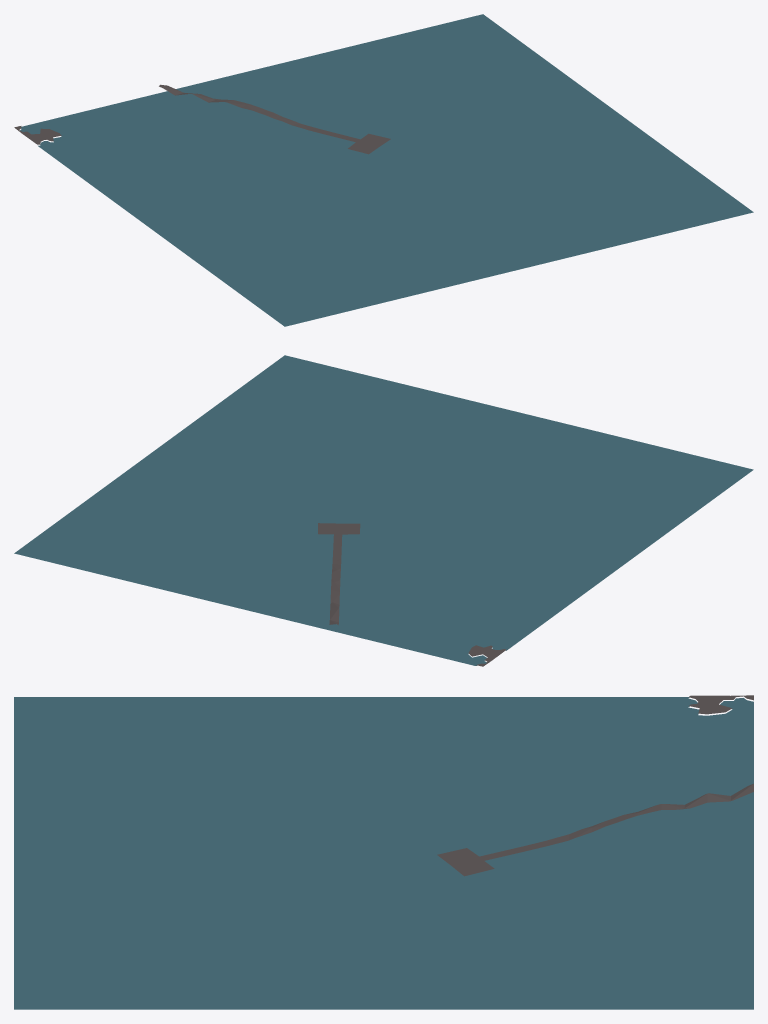
3 views of the same model, one above another, from view 1: azimuth 30°, elevation 25°; view 2: azimuth 150°, elevation 25°; view 3: azimuth 270°, elevation 25° (orthographic). The views are drawn at different scales.
Parts seen in each view (by area): view 1: c_p03_p13; view 2: c_p03_p13; view 3: c_p03_p13.
Boxes of the visible parts, left/top/right/bottom form: c_p03_p13: left=14, top=14, right=753, bottom=326; c_p03_p13: left=14, top=355, right=753, bottom=666; c_p03_p13: left=14, top=695, right=753, bottom=1009.
Bounding box in the file's own units: 128 × 2.11 × 128.
